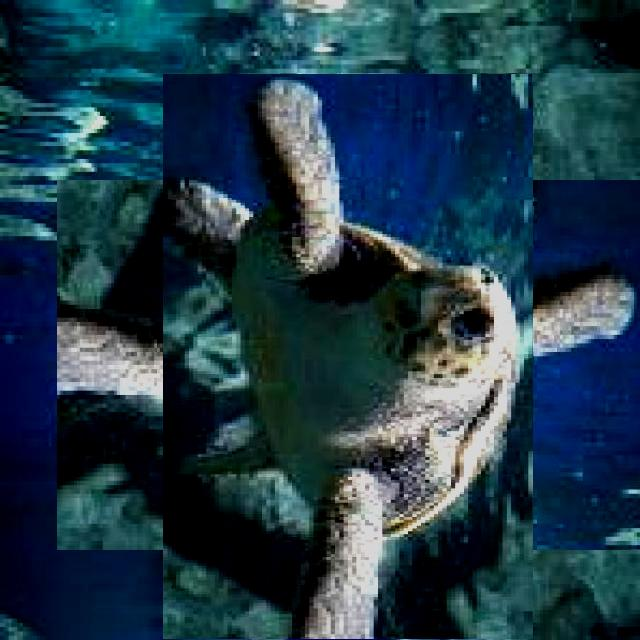Sea turtle: (110, 127, 587, 603)
